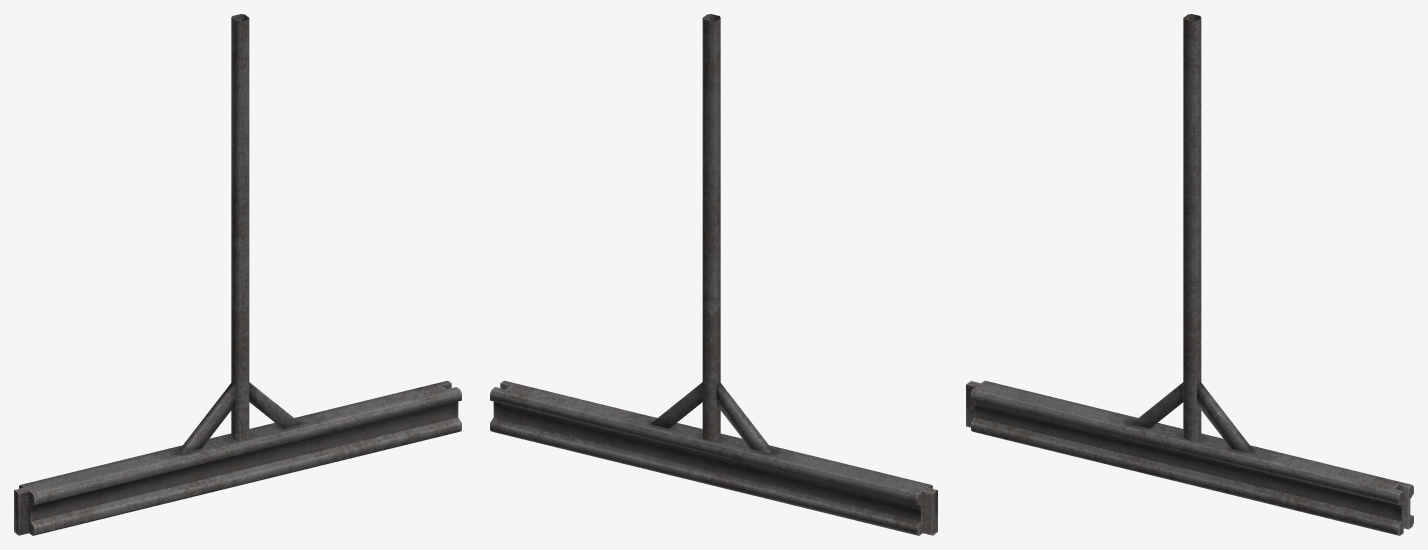
File: ceiling_rail_track.dae
3 views of the same model, side by side, from view 1: azimuth 30°, elevation 25°; view 2: azimuth 150°, elevation 25°; view 3: azimuth 330°, elevation 25° (orthographic).
Visible parts, largest first — view 1: straight__3_; view 2: straight__3_; view 3: straight__3_.
Part boxes in pixels (x1,y1,x2,y2): straight__3_: (14, 14, 461, 535); straight__3_: (490, 14, 937, 535); straight__3_: (966, 14, 1413, 535).
Bounding box in the file's own units: 2.05 × 2.06 × 0.125.
